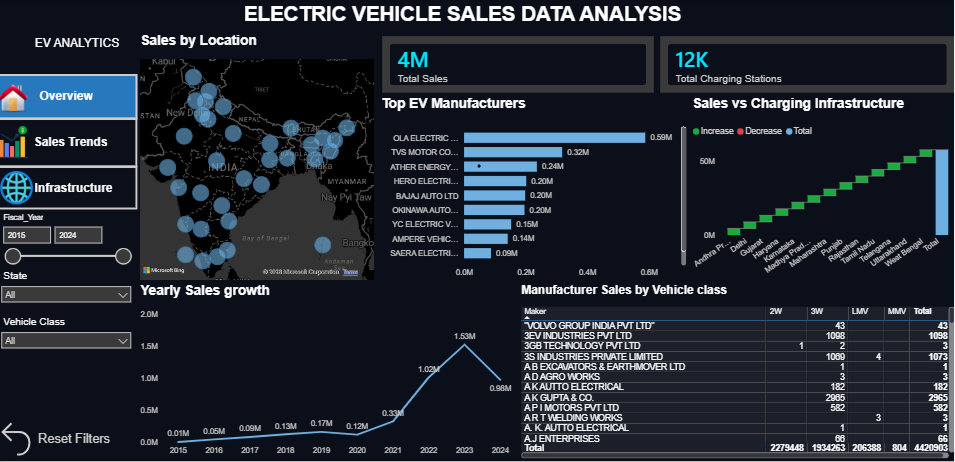

What the dashboard file says about the page in this screenshot:
{"tool":"powerbi","page":{"name":"Overview","canvas":[1500,720],"ordinal":0},"visuals":[{"type":"cardVisual","fields":{"Data":["cleaned_EV_Maker_by_Place.Total Sales"]},"box":[598.3,53.3,433.3,98.3],"z":0},{"type":"cardVisual","fields":{"Data":["cleaned_EV_Maker_by_Place.Total Charging Stations"]},"box":[1031.7,53.3,468.3,98.3],"z":1000},{"type":"lineChart","title":"Yearly Sales growth","fields":{"Category":["cleaned_ev_sales_by_makers_and_cat_15-24.Fiscal_Year"],"Y":["Sum(cleaned_ev_sales_by_makers_and_cat_15-24.Sales_Quantity)"]},"box":[221.8,442.1,593.3,276.5],"z":2000},{"type":"clusteredBarChart","title":"Top EV Manufacturers","fields":{"Category":["cleaned_ev_sales_by_makers_and_cat_15-24.Maker"],"Y":["cleaned_EV_Maker_by_Place.Total Sales"]},"box":[596.2,151.2,485.3,290.9],"z":3000},{"type":"slicer","fields":{"Values":["cleaned_Vehicle_Class_All.Vehicle Class"]},"box":[0,488.3,221.7,78.3],"z":4000},{"type":"textbox","box":[0,0,1500.5,53.3],"z":5000},{"type":"map","title":"Sales by Location","fields":{"Category":["cleaned_OperationalPC.State"],"Size":["cleaned_EV_Maker_by_Place.Total Sales"]},"box":[221.8,53.3,374.4,388.8],"z":6000},{"type":"slicer","fields":{"Values":["cleaned_ev_sales_by_makers_and_cat_15-24.Fiscal_Year"]},"box":[0,328.7,221.7,90],"z":7000},{"type":"slicer","fields":{"Values":["cleaned_OperationalPC.State"]},"box":[0,417.6,221.7,70],"z":8000},{"type":"waterfallChart","title":"Sales vs Charging Infrastructure","fields":{"Category":["cleaned_EV_Maker_by_Place.State"],"Y":["cleaned_EV_Maker_by_Place.Total Sales"]},"box":[1081.4,151.2,419,290.9],"z":9000},{"type":"pivotTable","title":"Manufacturer Sales by Vehicle class","fields":{"Rows":["cleaned_ev_sales_by_makers_and_cat_15-24.Maker"],"Columns":["cleaned_ev_sales_by_makers_and_cat_15-24.Cat"],"Values":["Sum(cleaned_ev_sales_by_makers_and_cat_15-24.Sales_Quantity)"]},"box":[815,442.1,685.4,277.9],"z":10000},{"type":"actionButton","box":[0,116.6,221.8,70.6],"z":11000},{"type":"actionButton","box":[0,260.6,221.8,67.7],"z":12000},{"type":"image","box":[0,130,56.3,51.7],"z":13000},{"type":"actionButton","box":[0,185,221.7,76.7],"z":14000},{"type":"image","box":[0,190,53.3,65],"z":15000},{"type":"textbox","box":[0,53.3,221.8,63.4],"z":17000},{"type":"image","box":[0,268.3,66.7,51.7],"z":18000},{"type":"actionButton","box":[0,652.6,221.2,65.4],"z":19000}]}

Visuals, with their boxes on the page's 1500x720 design canvas (x1, y1, x2, y2). These are canvas units, not pixel positions in the 955x462 screenshot, which may show the page scaled, cropped or inside an application window:
cardVisual - cleaned_EV_Maker_by_Place.Total Sales: [x1=598, y1=53, x2=1032, y2=152]
cardVisual - cleaned_EV_Maker_by_Place.Total Charging Stations: [x1=1032, y1=53, x2=1500, y2=152]
"Yearly Sales growth" lineChart: [x1=222, y1=442, x2=815, y2=719]
"Top EV Manufacturers" clusteredBarChart: [x1=596, y1=151, x2=1082, y2=442]
slicer - cleaned_Vehicle_Class_All.Vehicle Class: [x1=0, y1=488, x2=222, y2=567]
textbox: [x1=0, y1=0, x2=1500, y2=53]
"Sales by Location" map: [x1=222, y1=53, x2=596, y2=442]
slicer - cleaned_ev_sales_by_makers_and_cat_15-24.Fiscal_Year: [x1=0, y1=329, x2=222, y2=419]
slicer - cleaned_OperationalPC.State: [x1=0, y1=418, x2=222, y2=488]
"Sales vs Charging Infrastructure" waterfallChart: [x1=1081, y1=151, x2=1500, y2=442]
"Manufacturer Sales by Vehicle class" pivotTable: [x1=815, y1=442, x2=1500, y2=720]
actionButton: [x1=0, y1=117, x2=222, y2=187]
actionButton: [x1=0, y1=261, x2=222, y2=328]
image: [x1=0, y1=130, x2=56, y2=182]
actionButton: [x1=0, y1=185, x2=222, y2=262]
image: [x1=0, y1=190, x2=53, y2=255]
textbox: [x1=0, y1=53, x2=222, y2=117]
image: [x1=0, y1=268, x2=67, y2=320]
actionButton: [x1=0, y1=653, x2=221, y2=718]
